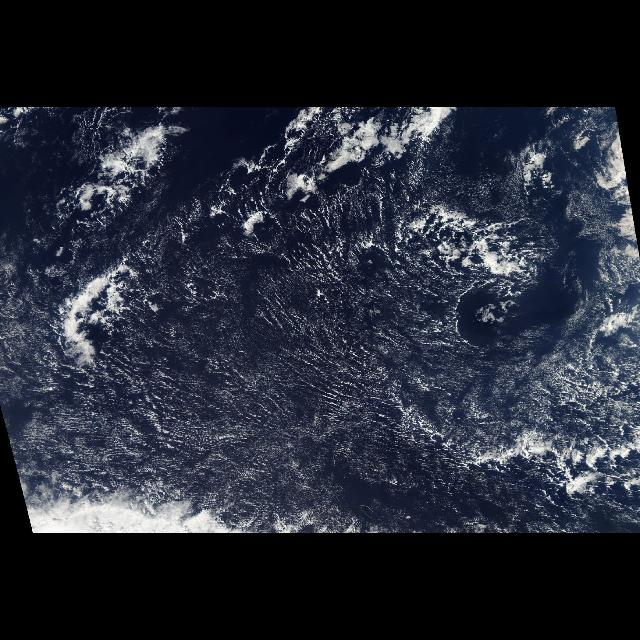Gravel: (183, 110, 464, 294), (416, 422, 640, 534)
Sugar: (5, 187, 639, 518)
